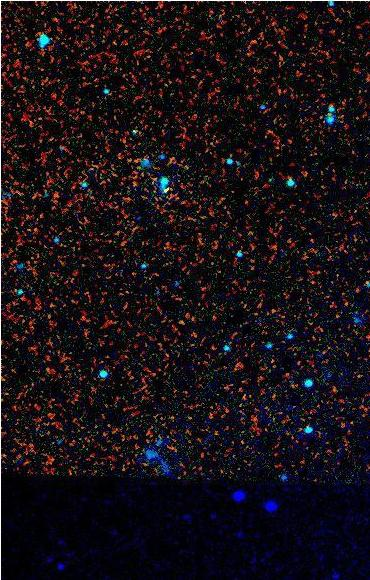star: (147, 176, 177, 206)
